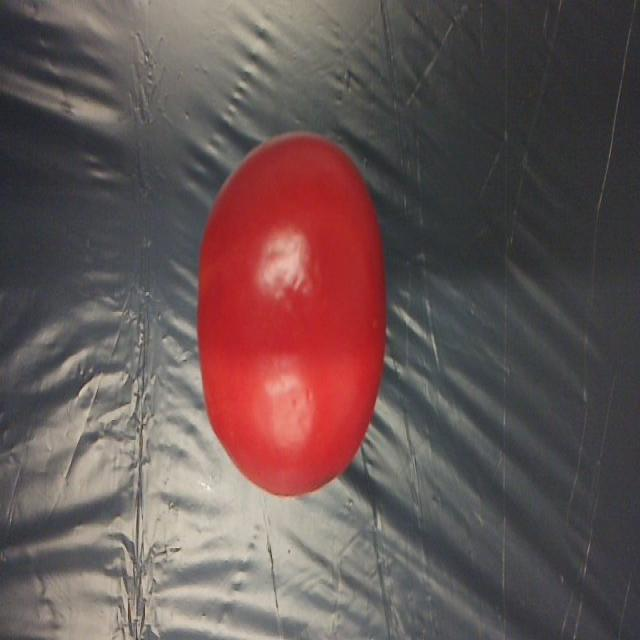kirmizi: (185, 114, 392, 496)
